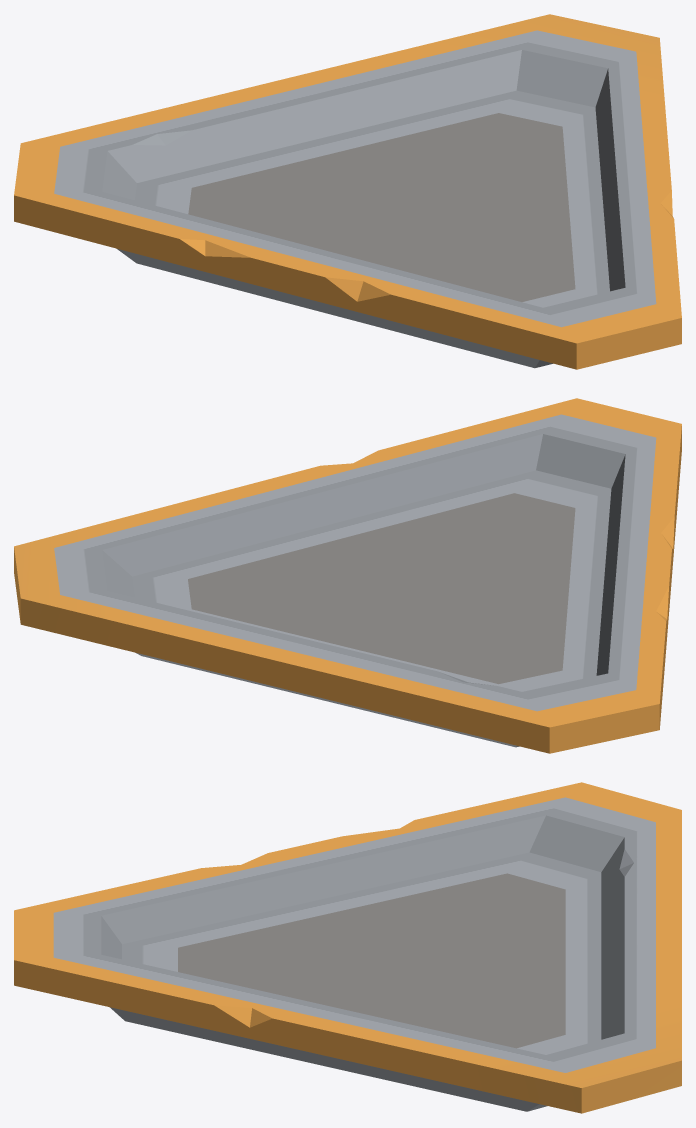
File: SM_Prop_Plates_02.fbx
The picture shows the model from 3 angles, top to bottom: view 1: azimuth 30°, elevation 25°; view 2: azimuth 150°, elevation 25°; view 3: azimuth 270°, elevation 25°; orthographic projection. The views are drawn at different scales.
Visible parts, largest first — view 1: SM_Prop_Plates_02; view 2: SM_Prop_Plates_02; view 3: SM_Prop_Plates_02.
Part boxes in pixels (x1=…): SM_Prop_Plates_02: x1=14, y1=14, x2=681, y2=369; SM_Prop_Plates_02: x1=14, y1=398, x2=681, y2=753; SM_Prop_Plates_02: x1=14, y1=782, x2=681, y2=1113.
Bounding box in the file's own units: 44.11 × 4.6 × 40.71.
